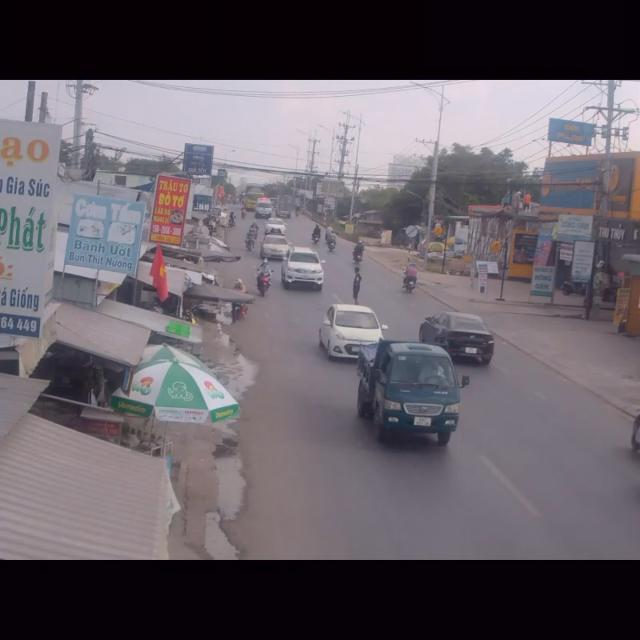car: (416, 313, 494, 373), (321, 303, 385, 367), (284, 246, 324, 288)
motorbike: (258, 259, 273, 301), (402, 260, 418, 296)
truck: (360, 338, 468, 450)
